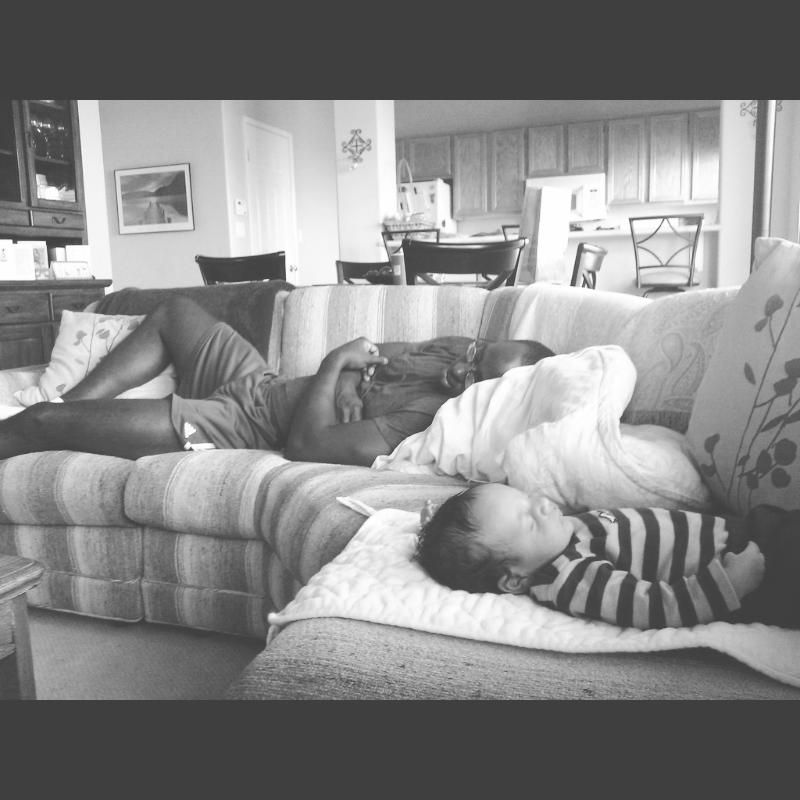pillow: (16, 306, 174, 395)
